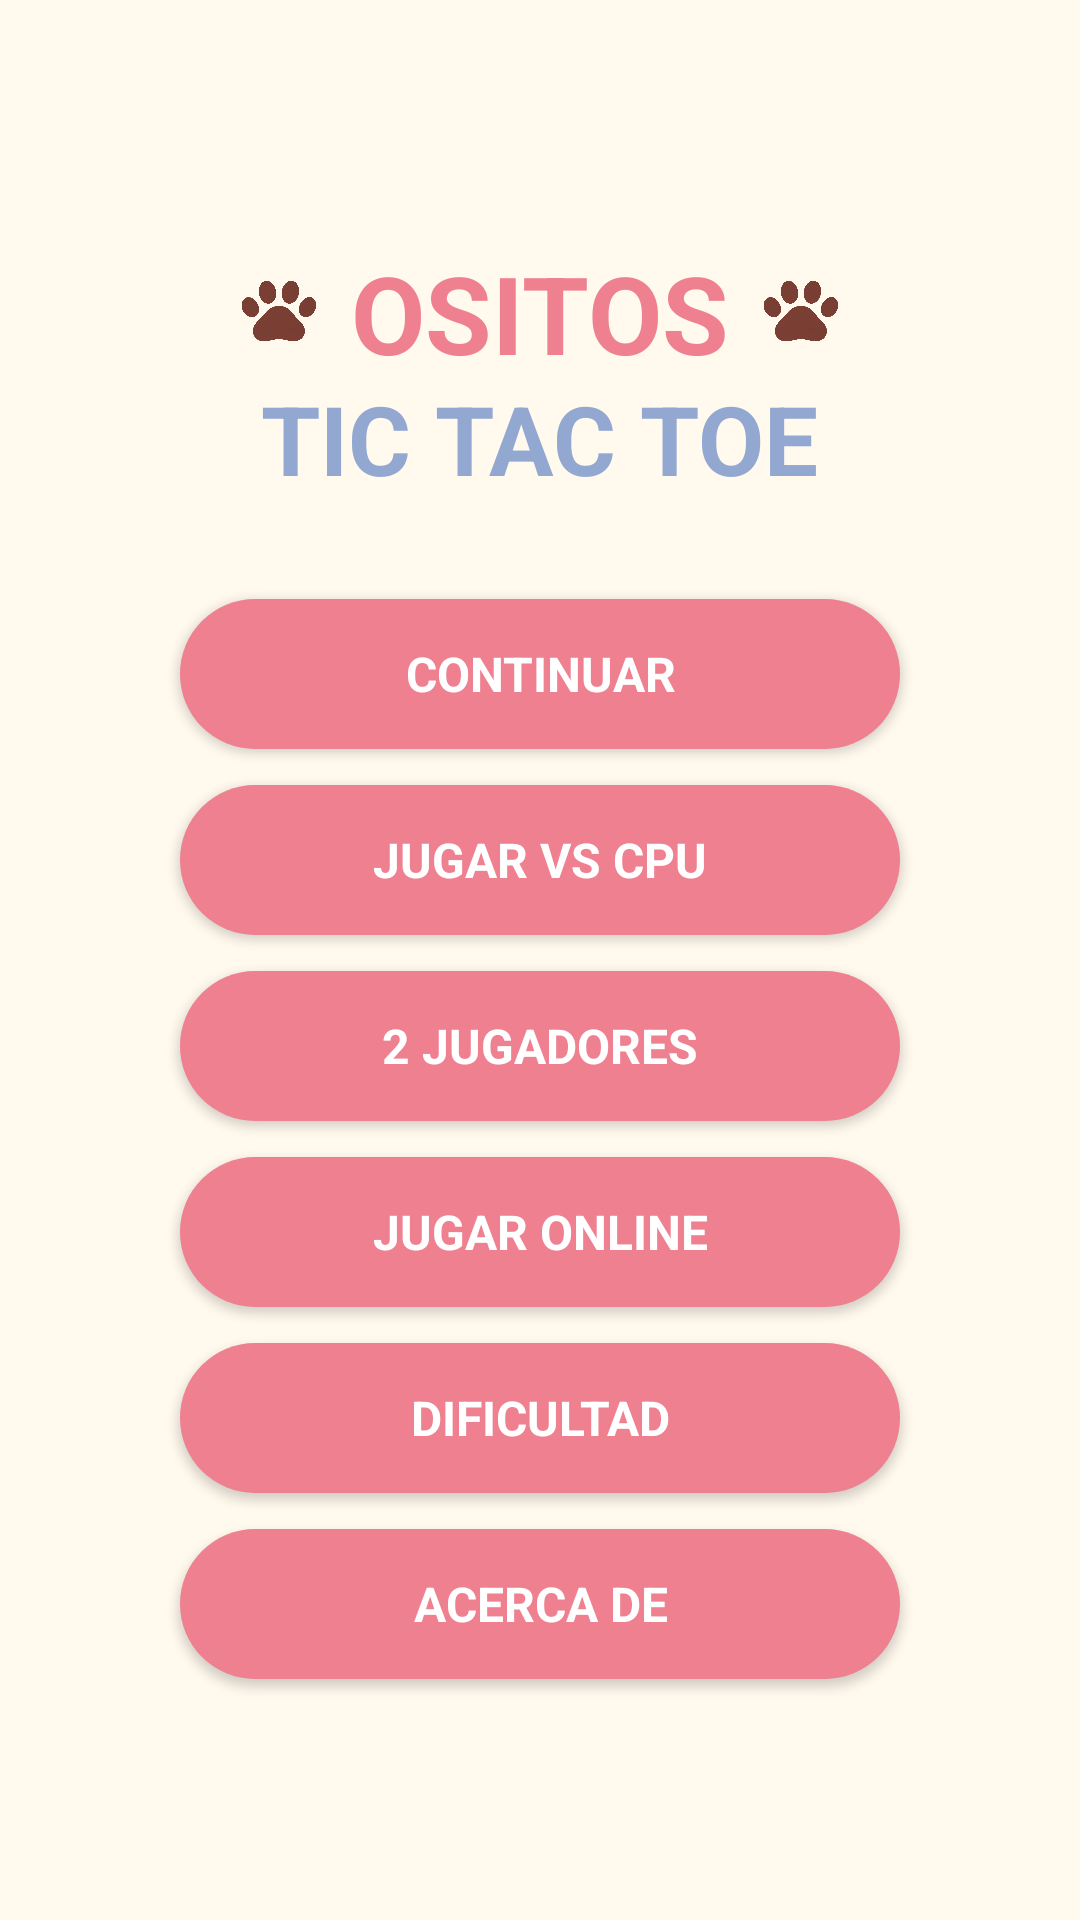

Named icons in this screenshot (1080 × 1920) and their bounding boxes, bbox(x1, y1, x2, y2):
Patita derecha: bbox(764, 281, 838, 341)
Patita izquierda: bbox(242, 281, 316, 341)
